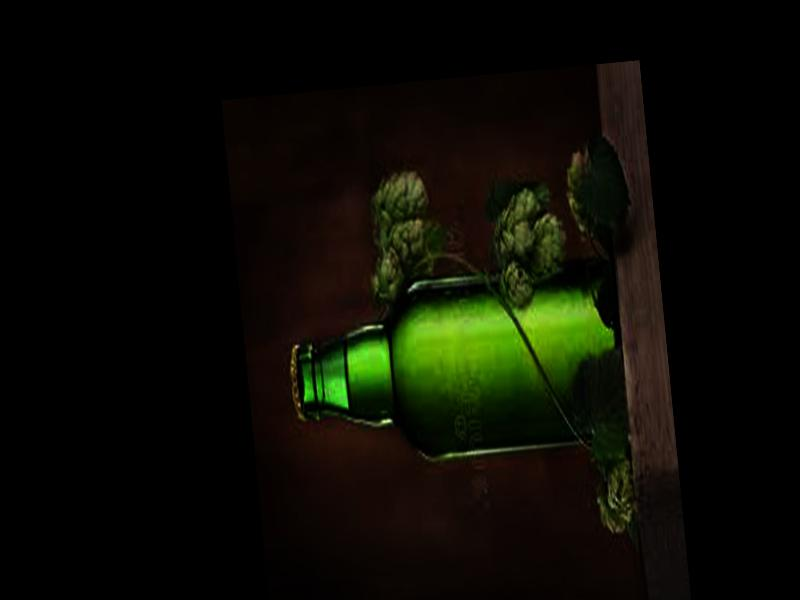Beer: (281, 265, 636, 474)
